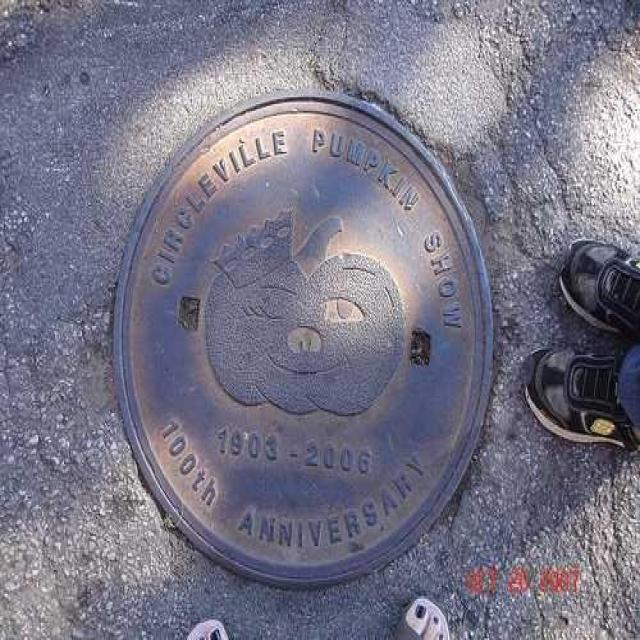manhole: (114, 95, 491, 586)
